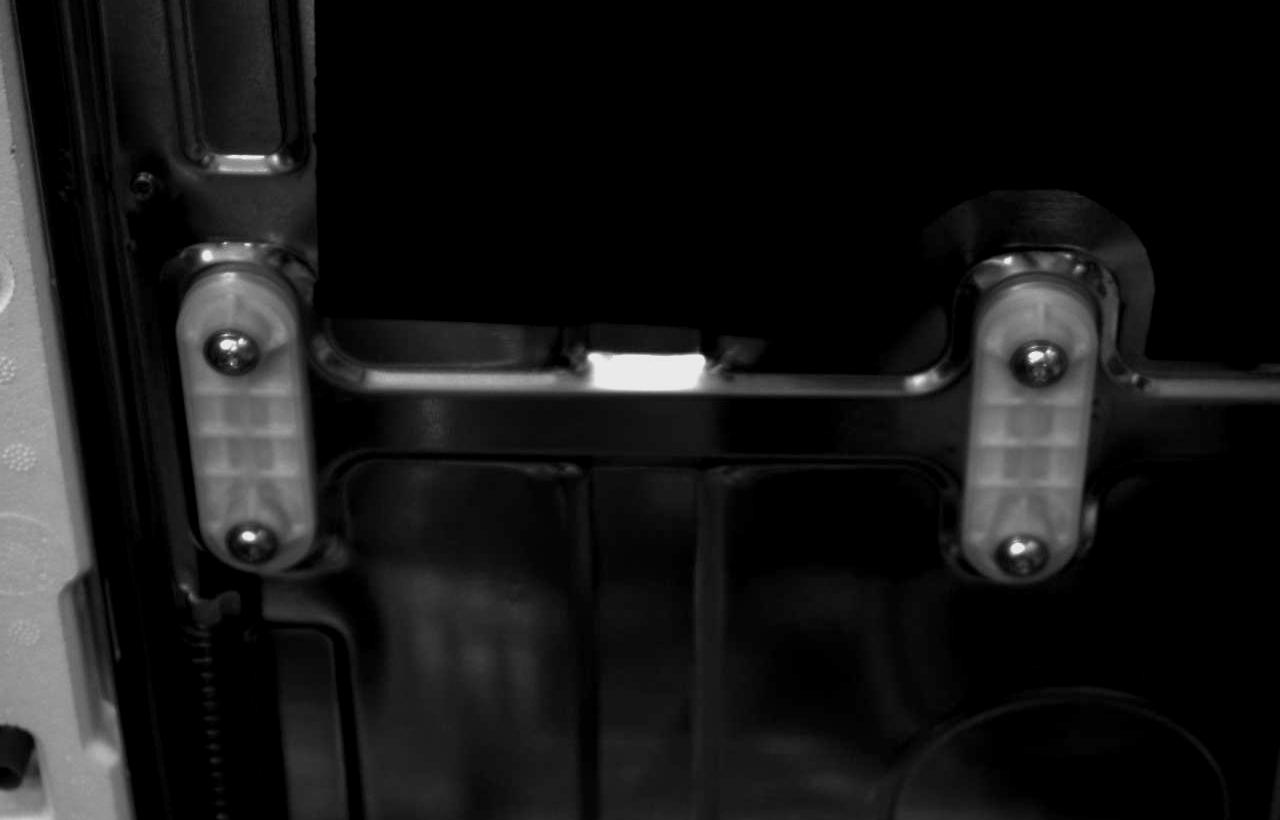vida-ok: (181, 311, 267, 388), (994, 327, 1082, 400), (213, 511, 291, 575), (988, 525, 1064, 583)
